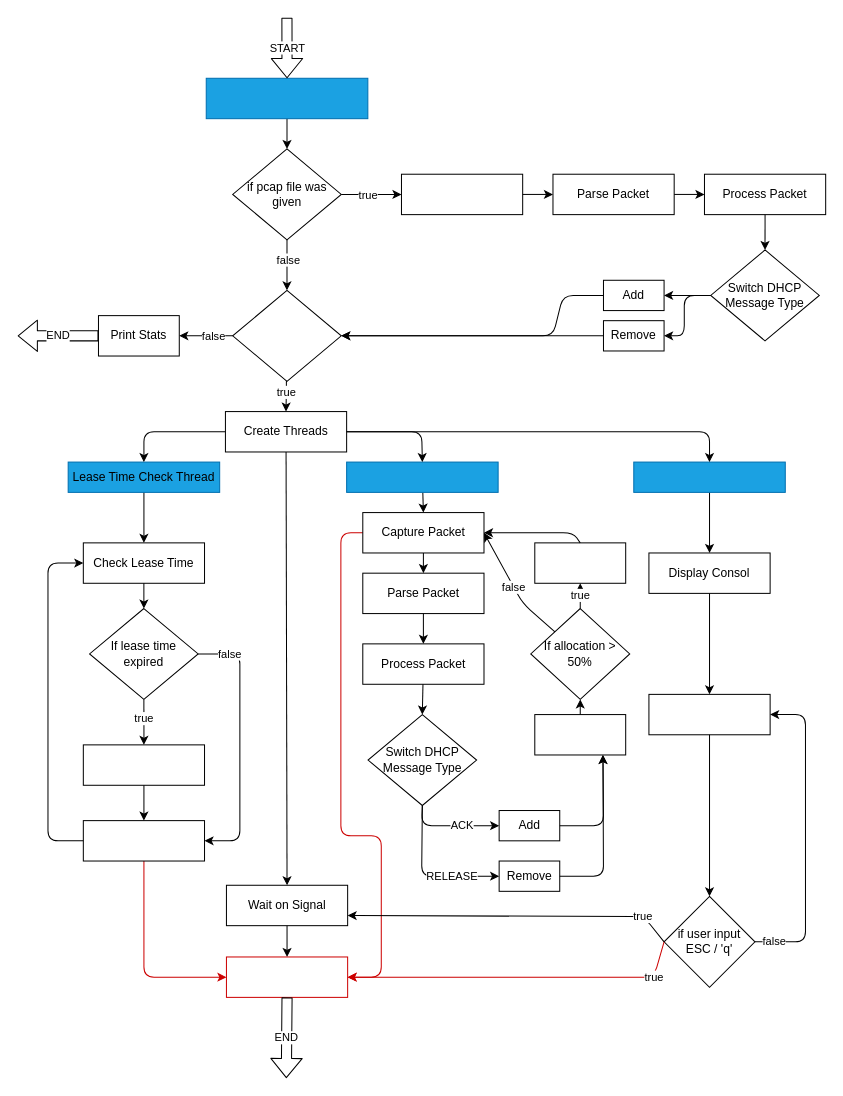
Some shapes in this 843 by 1096 pixel diagram are drawn without their labels. Here are the shapes that lost their labels. From the top down, the centre of each, then its label:
At (286,98): "Main Thread".
At (461,194): "Analyze Pcap File".
At (286,335): "if interface was given".
At (422,476): "Capture Packet Thread".
At (709,476): "Consol Thread".
At (580,562): "Make Syslog".
At (580,734): "Update Consol".
At (709,714): "Wait on Input".
At (143,764): "Remove addresses".
At (143,840): "Sleep for N seconds".
At (286,976): "Join Threads".
